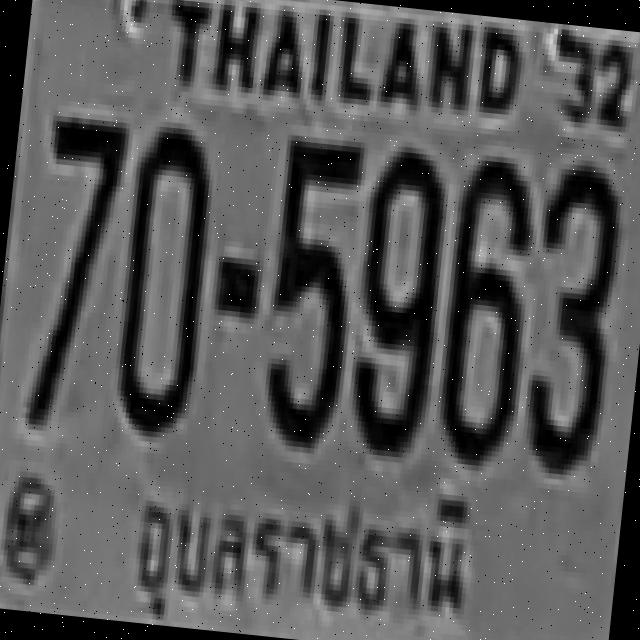0: (107, 118, 216, 434)
3: (516, 156, 625, 472)
5: (256, 132, 362, 442)
6: (432, 152, 536, 462)
7: (22, 110, 126, 425)
9: (344, 141, 449, 451)
UbonRatchathani: (118, 455, 486, 640)
